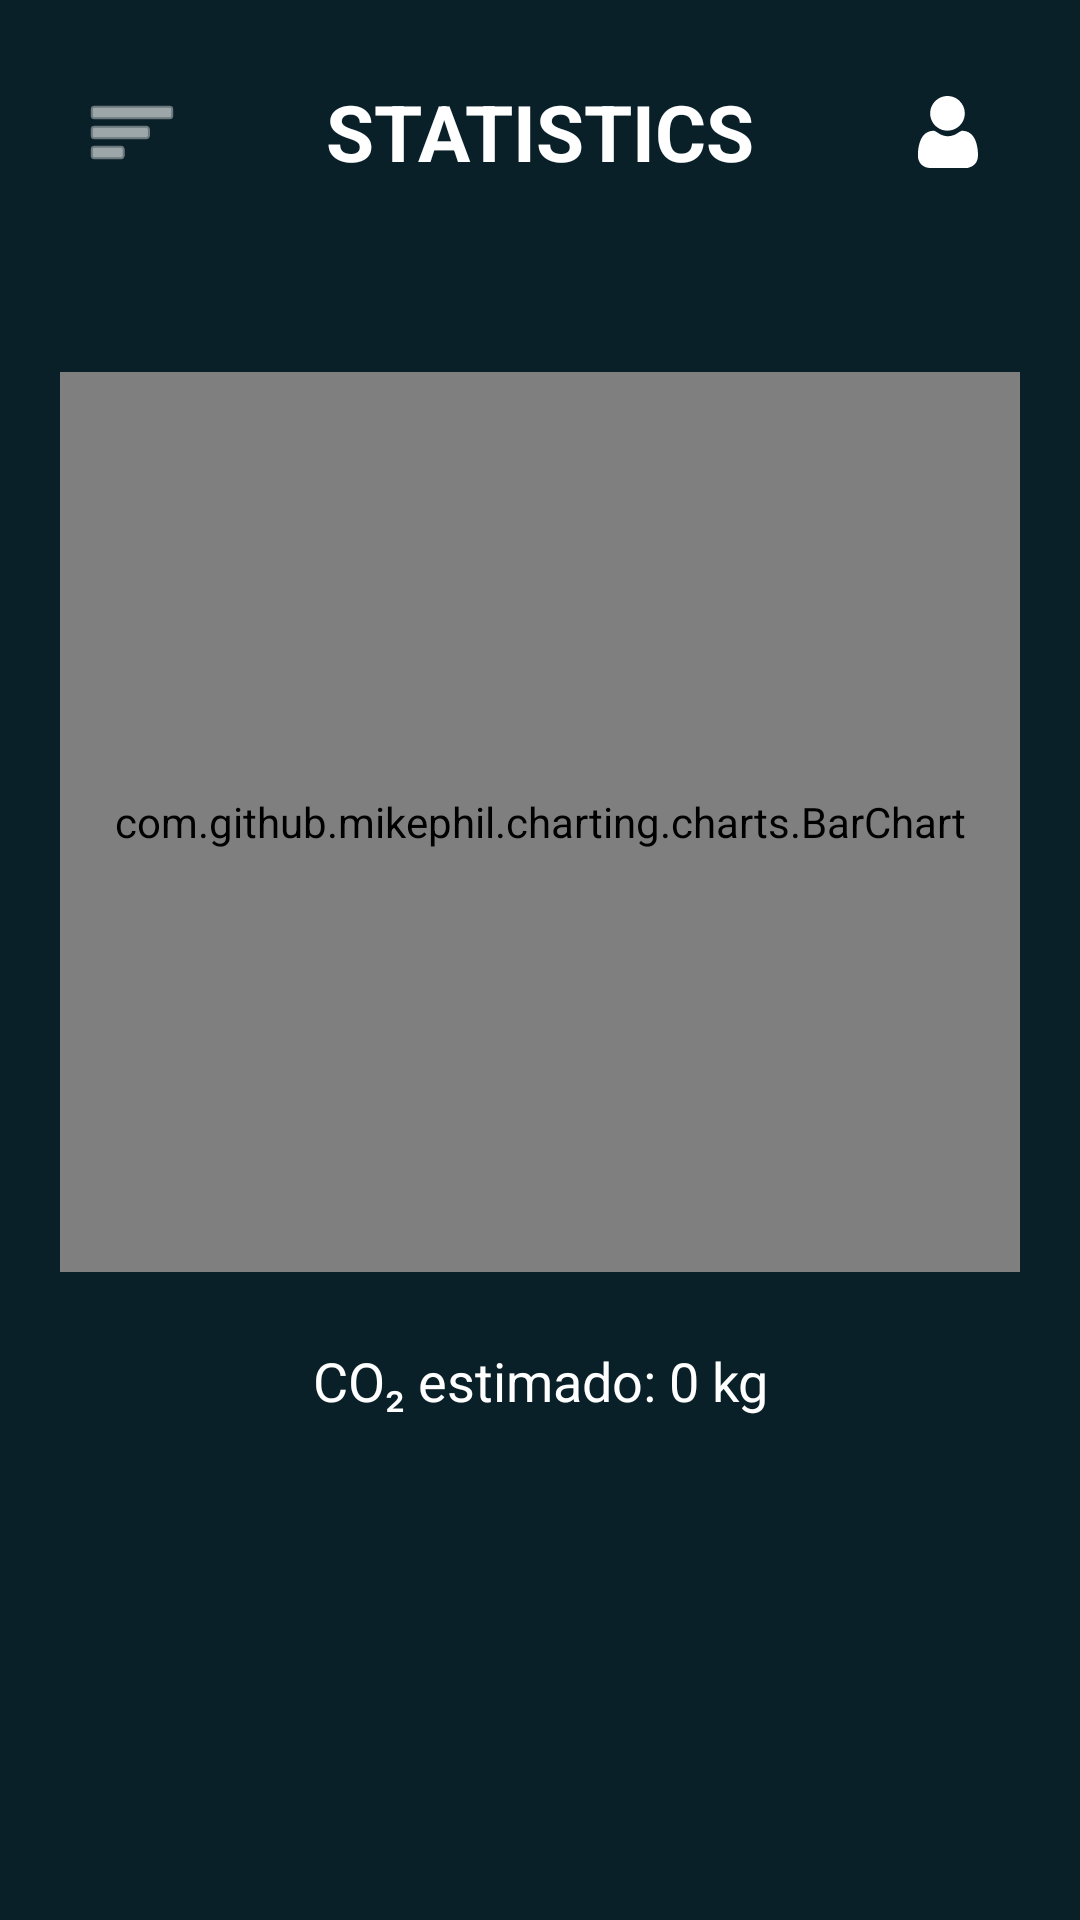

Locate icon controls on the screen. Image size 1080 x 1920, boxes as region(x1, y1, x2, y2).
Open menu: region(91, 106, 173, 159)
Open user profile: region(918, 96, 978, 168)
